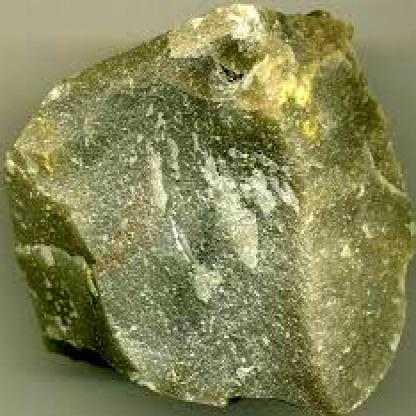Metamorphic_Quartize: (4, 0, 414, 414)
